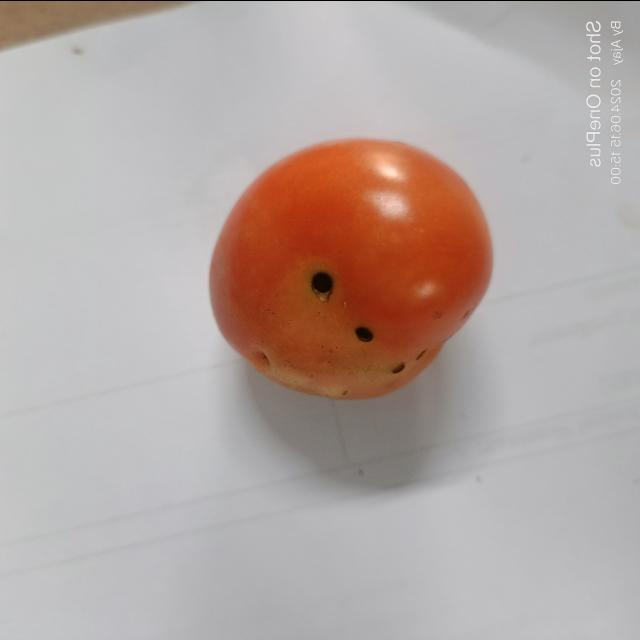fruitworm_bore: (304, 268, 382, 350)
